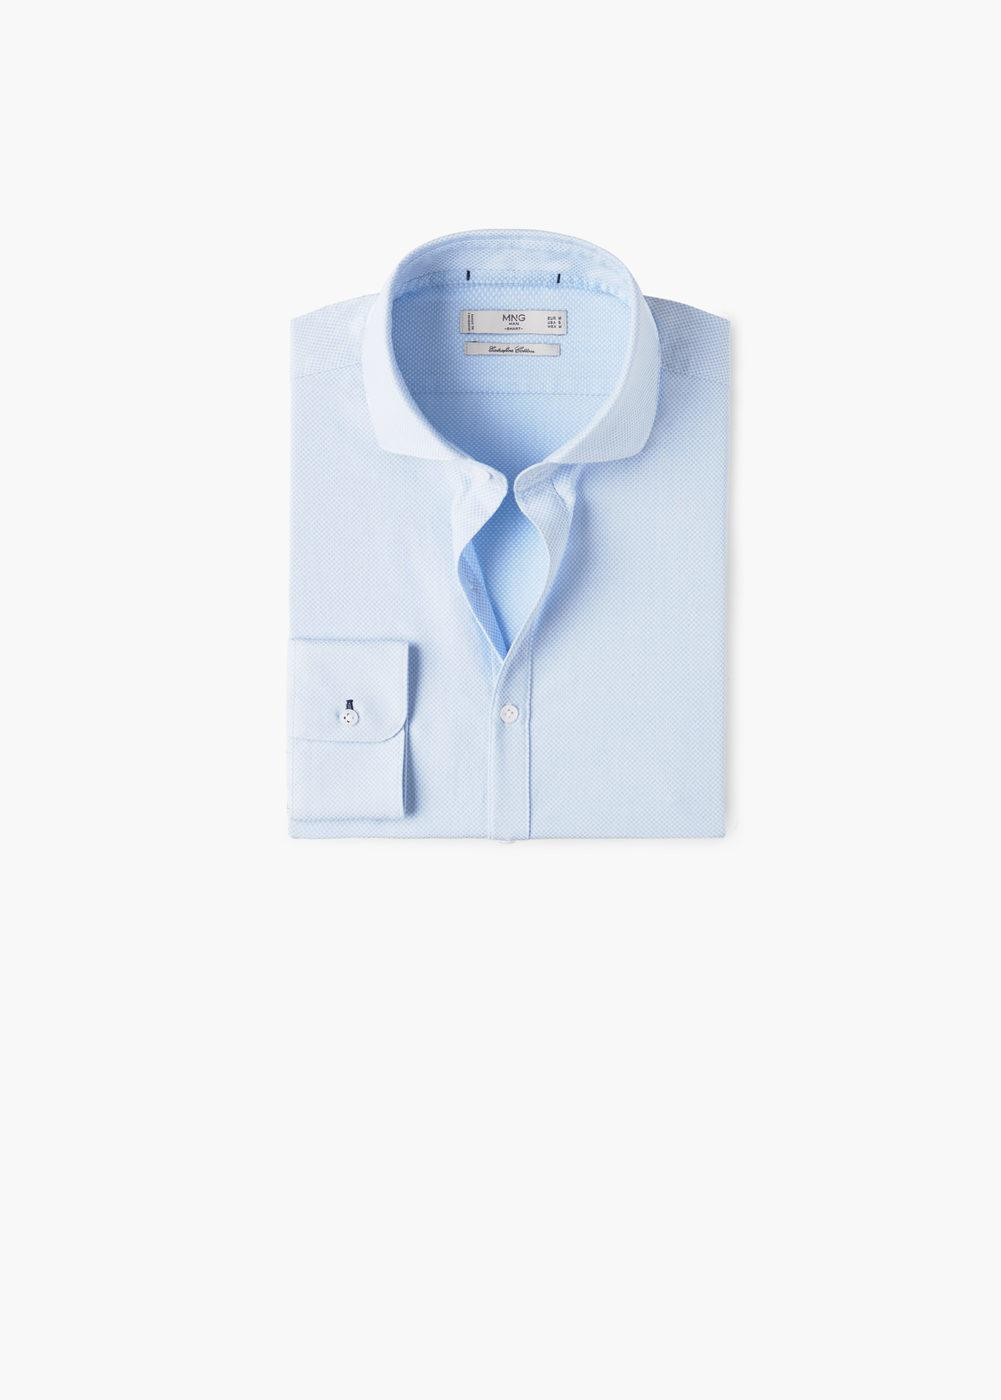teeshirt: (266, 214, 753, 858)
